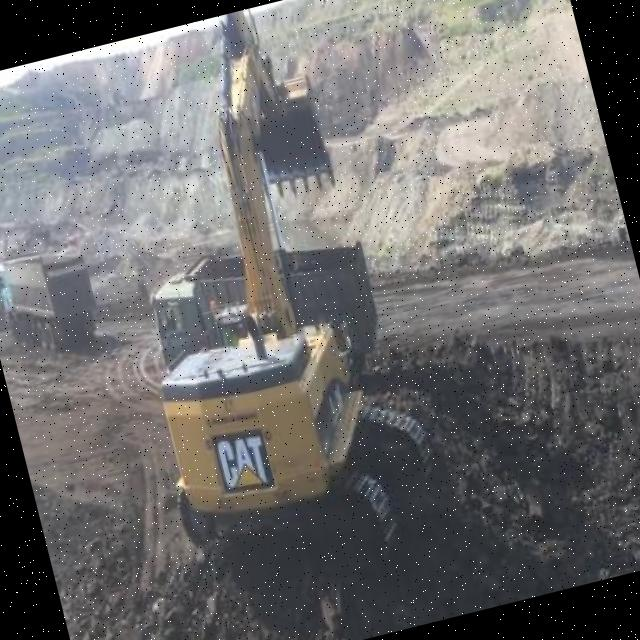Dump Truck: (0, 236, 106, 365)
Excavator: (63, 0, 456, 612)
